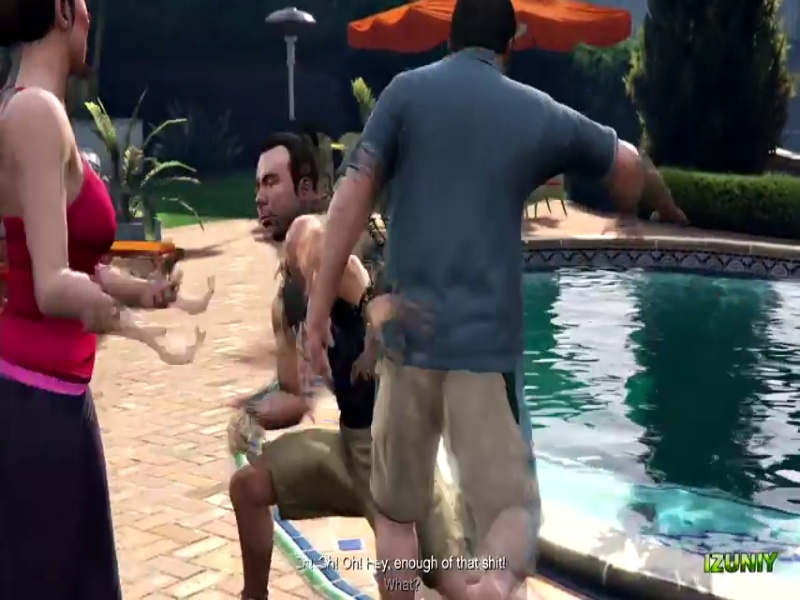human: (252, 2, 702, 595)
